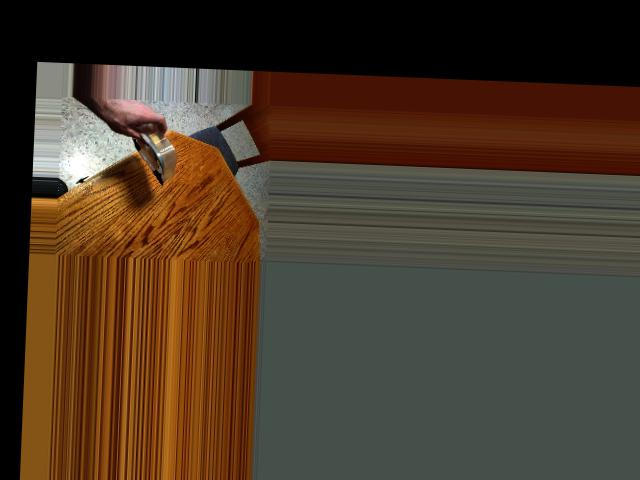cheese: (109, 114, 186, 180)
